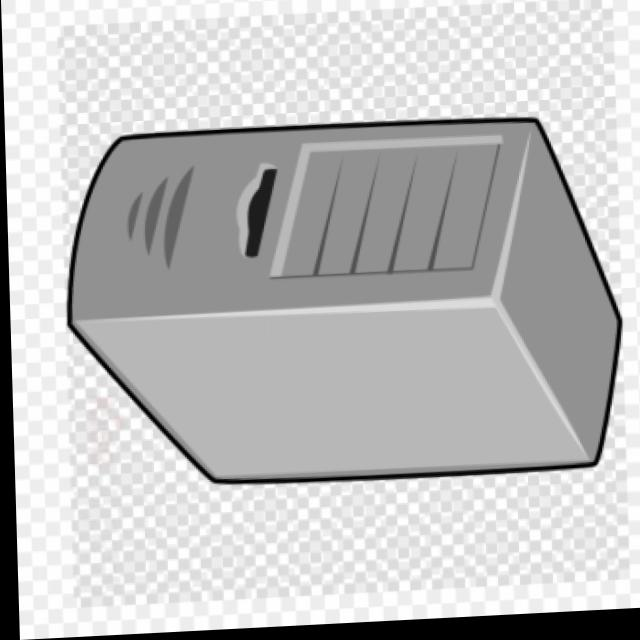Server: (47, 55, 636, 527)
